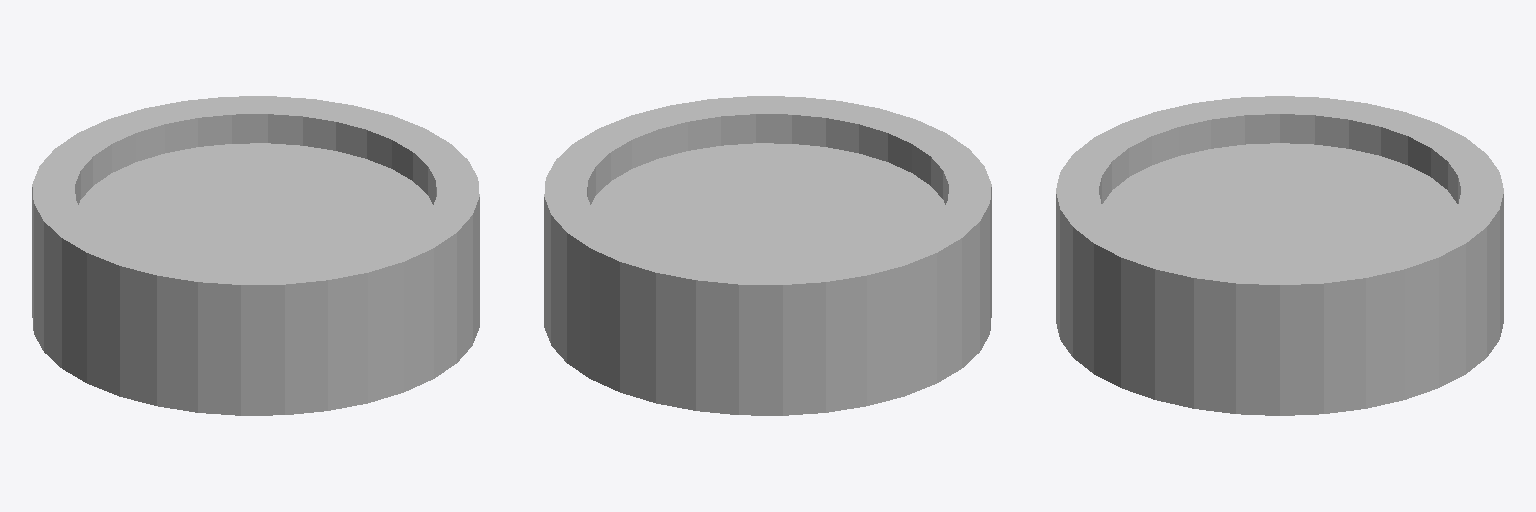
The model's file is Yellow_Checker.obj.
The picture shows the model from 3 angles: view 1: azimuth 30°, elevation 25°; view 2: azimuth 150°, elevation 25°; view 3: azimuth 270°, elevation 25°; orthographic projection.
Visible parts, largest first — view 1: Yellow_Checker; view 2: Yellow_Checker; view 3: Yellow_Checker.
Boxes of the visible parts, x1,y1,x2,y2 form: Yellow_Checker: [32, 96, 479, 415]; Yellow_Checker: [544, 96, 991, 415]; Yellow_Checker: [1056, 96, 1503, 415].
Bounding box in the file's own units: 2 × 0.6437 × 2.